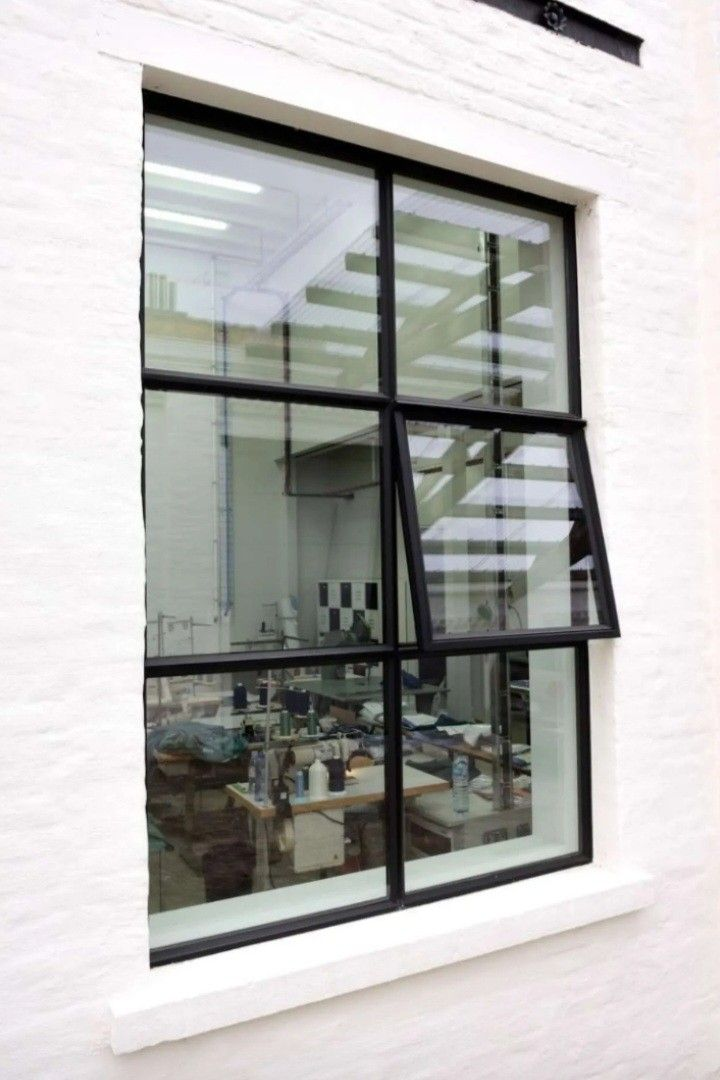glass_panel: (141, 395, 383, 649), (144, 126, 375, 382), (149, 679, 391, 904), (405, 652, 584, 884), (393, 186, 565, 409), (410, 431, 598, 634)
